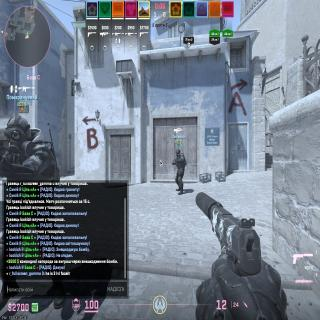CT-Body: (0, 115, 60, 187), (172, 148, 187, 195)
CT-Head: (4, 115, 32, 156), (176, 148, 180, 156)
